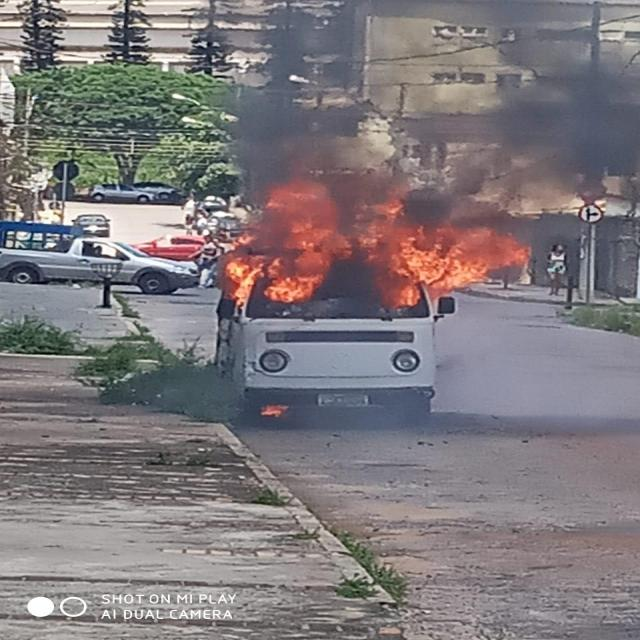Fire: (358, 186, 528, 302), (221, 187, 350, 306), (262, 402, 288, 416)
